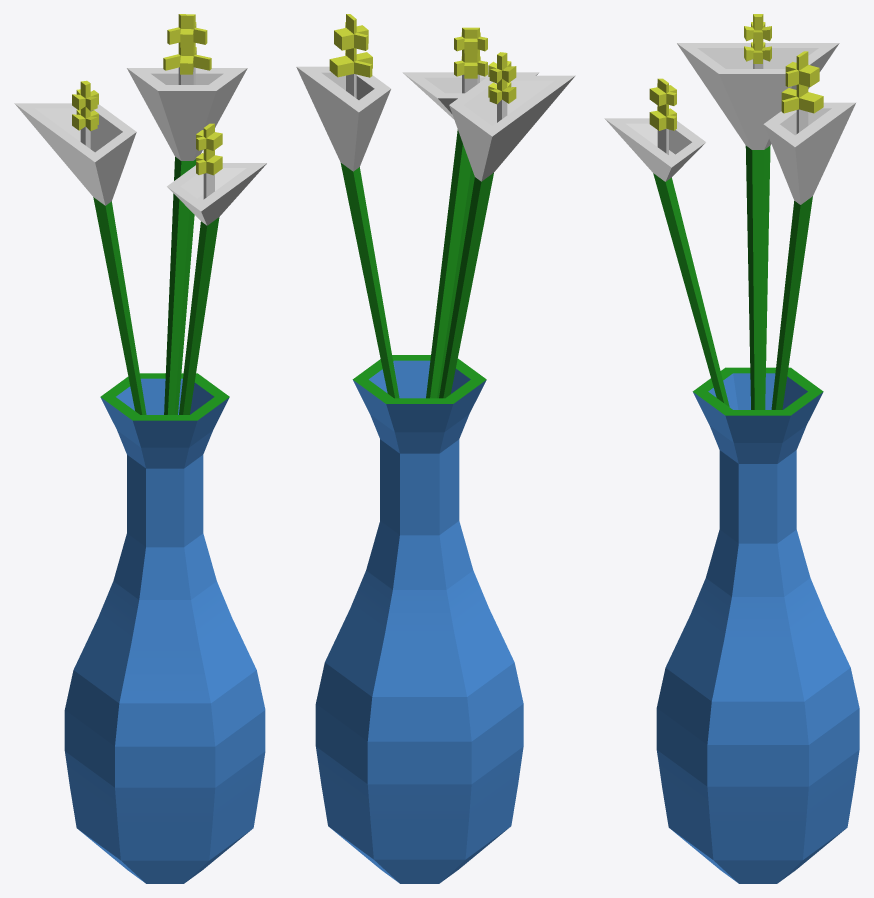
Rendered from Vase01.fbx.
3 renders of one model, left to right at view 1: azimuth 30°, elevation 25°; view 2: azimuth 150°, elevation 25°; view 3: azimuth 270°, elevation 25°, orthographic. The views are drawn at different scales.
Visible parts, largest first — view 1: Vase01; view 2: Vase01; view 3: Vase01.
Boxes of the visible parts, x1,y1,x2,y2 form: Vase01: (14,14,266,883); Vase01: (296,14,575,883); Vase01: (604,14,859,883).
Bounding box in the file's own units: 0.2663 × 0.2753 × 0.9972.
